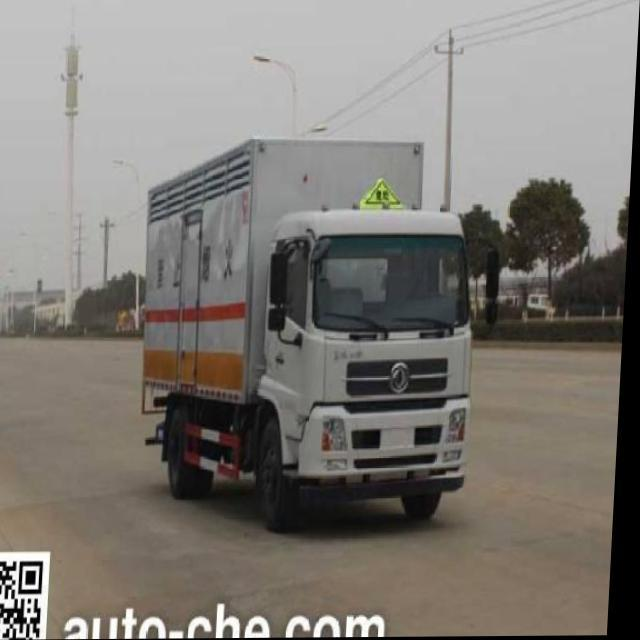covered: (111, 123, 492, 526)
